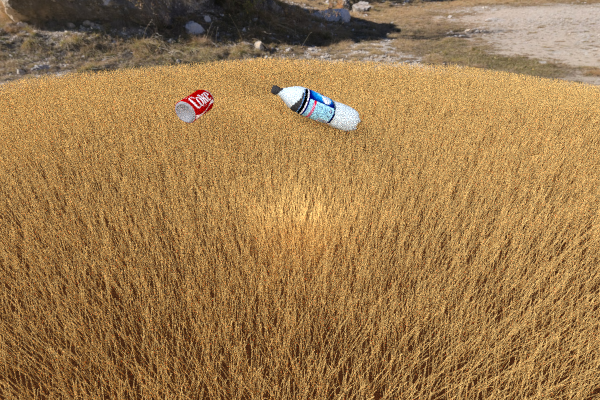Plastic Bottle: (269, 85, 358, 131), (138, 131, 213, 170)
